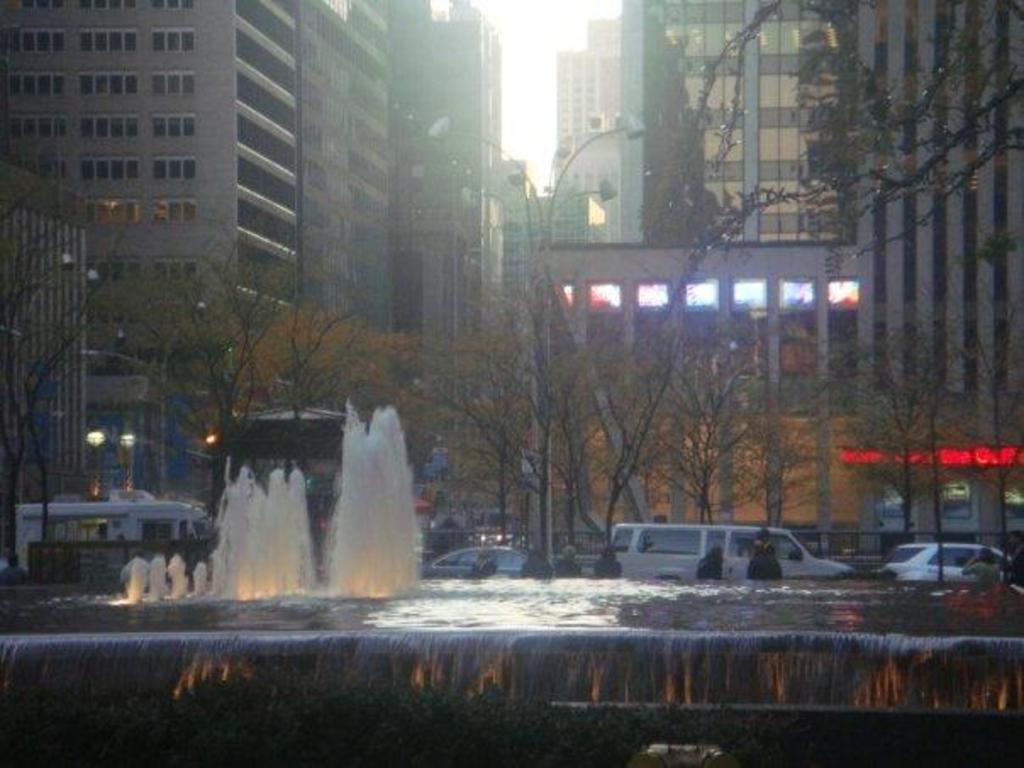Car: (598, 520, 847, 578), (881, 539, 1020, 579), (413, 544, 535, 579)
